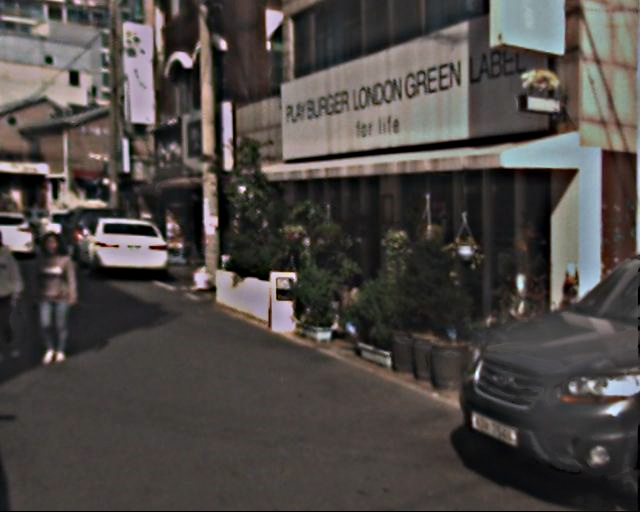person: (28, 226, 86, 364)
